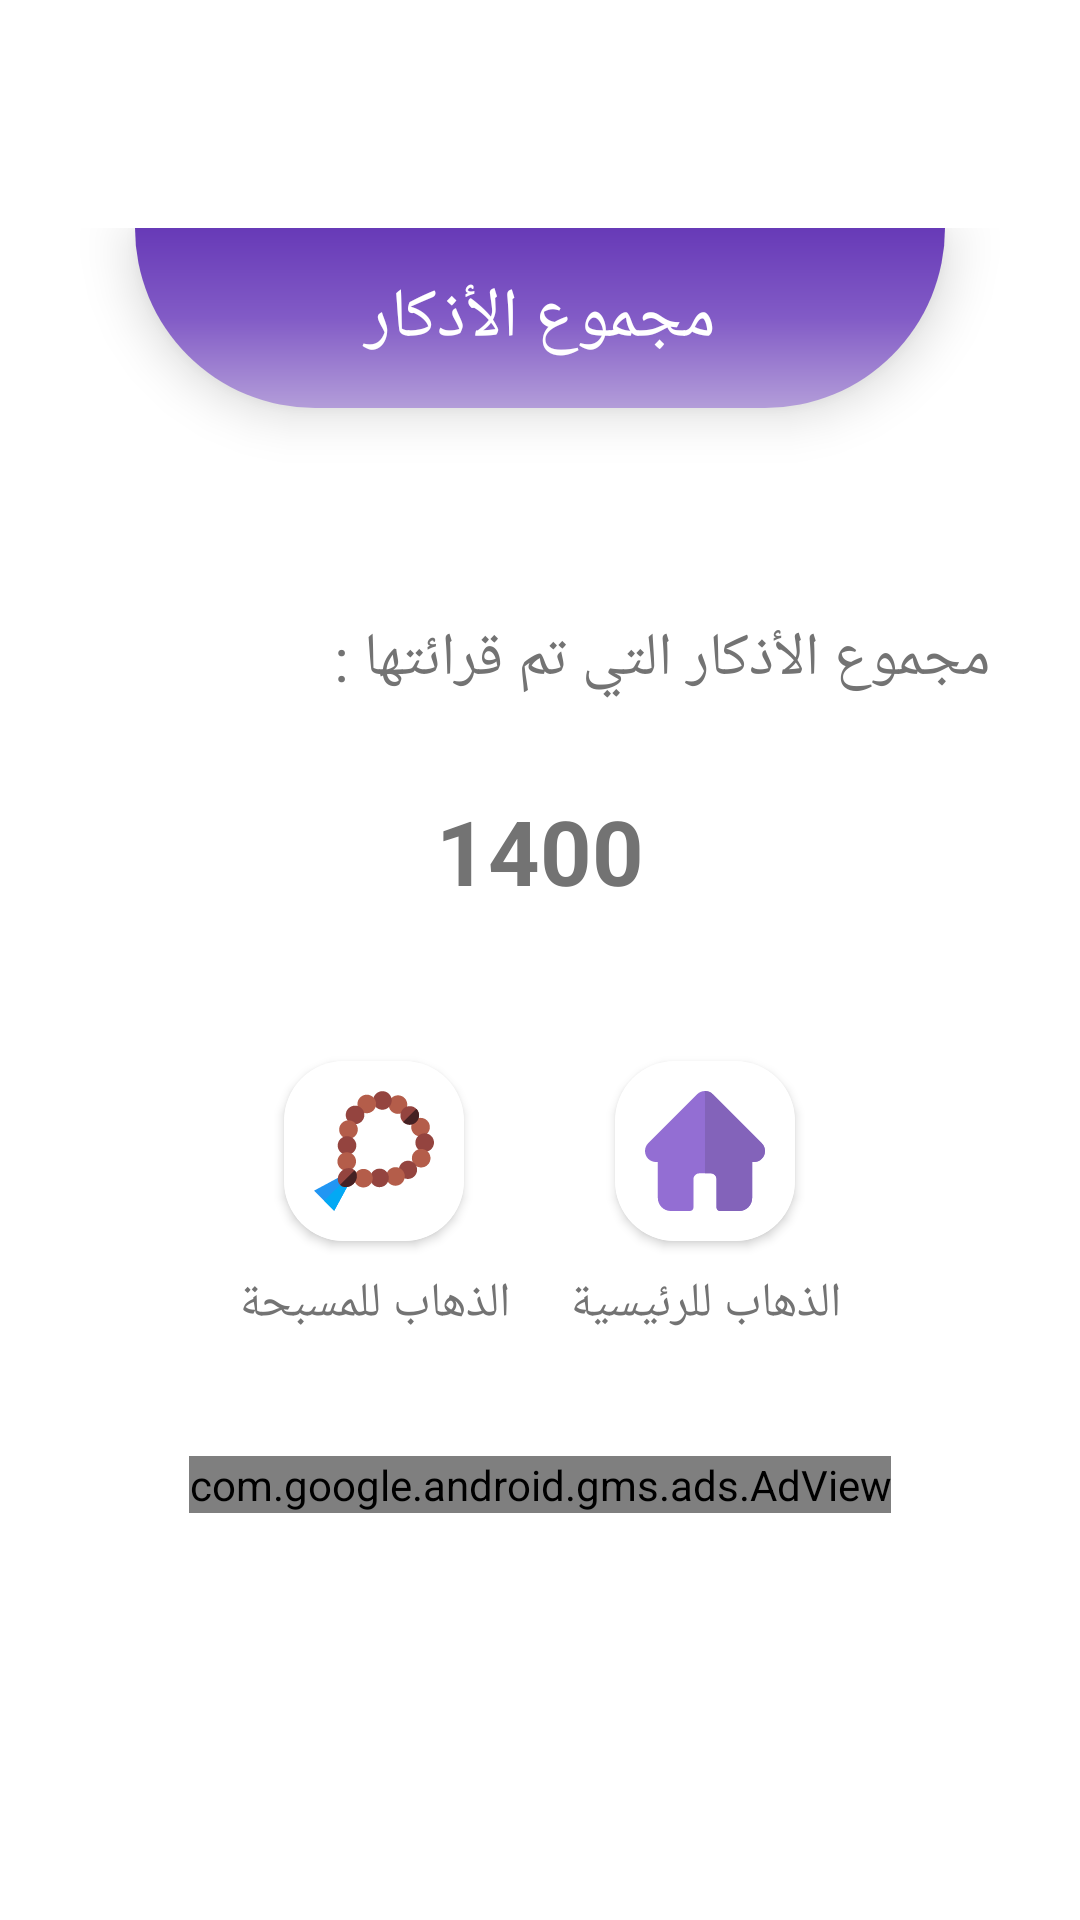

Named icons in this screenshot (1080*1920) and their centers, [x,y]:
home: [705,1151]
rosary: [374,1151]
